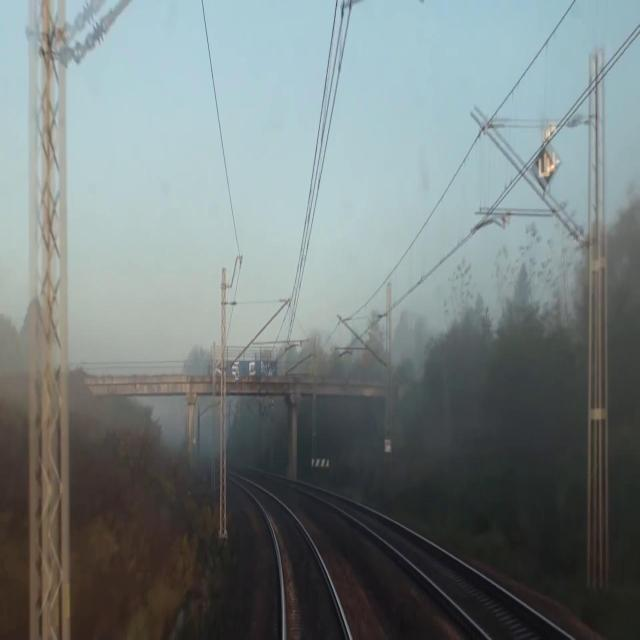rail-track: (337, 501, 563, 639), (254, 489, 347, 639)
